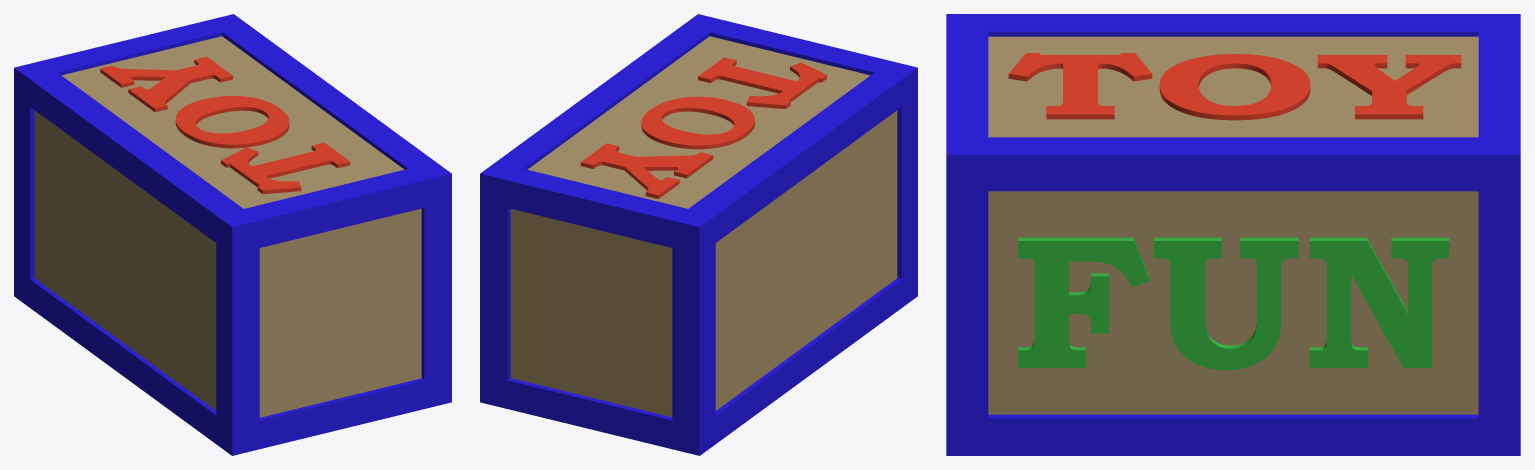
Rendered from Toybox.fbx.
3 renders of one model, left to right at view 1: azimuth 30°, elevation 25°; view 2: azimuth 150°, elevation 25°; view 3: azimuth 270°, elevation 25°, orthographic. The views are drawn at different scales.
Parts seen in each view (by area): view 1: Cube, Cube.001, Text.004; view 2: Cube, Cube.001, Text.004; view 3: Cube, Cube.001, Text.003, Text.004.
Part boxes in pixels (left/top/right/bottom): Cube: left=14, top=81, right=451, bottom=455; Cube.001: left=14, top=14, right=451, bottom=241; Text.004: left=100, top=56, right=350, bottom=194; Cube: left=480, top=81, right=917, bottom=455; Cube.001: left=480, top=14, right=917, bottom=240; Text.004: left=580, top=57, right=826, bottom=198; Cube: left=946, top=172, right=1520, bottom=455; Cube.001: left=946, top=14, right=1520, bottom=173; Text.003: left=1017, top=237, right=1449, bottom=370; Text.004: left=1008, top=53, right=1461, bottom=120.
Bounding box in the file's own units: 70.41 × 70.04 × 121.
